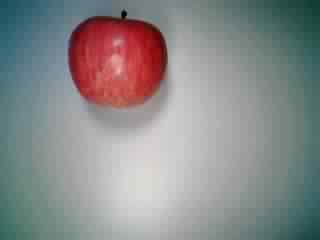apple: (66, 6, 172, 110)
